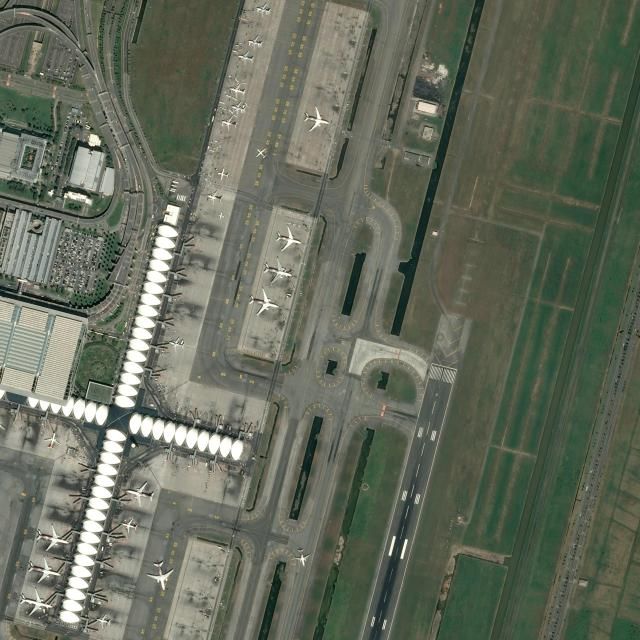aircraft: (15, 586, 52, 618), (33, 522, 69, 552), (261, 255, 294, 285), (248, 287, 280, 317), (144, 559, 174, 591), (26, 554, 60, 582), (300, 103, 330, 133), (123, 480, 155, 508), (273, 222, 302, 252), (291, 547, 311, 567), (42, 430, 61, 449), (227, 81, 245, 99), (246, 34, 264, 50), (236, 49, 254, 65), (220, 114, 238, 130), (205, 189, 223, 205), (167, 336, 185, 352), (121, 518, 138, 534), (230, 99, 246, 116), (255, 1, 273, 16), (92, 612, 111, 626), (214, 166, 230, 182), (252, 146, 268, 160), (216, 210, 224, 220)
